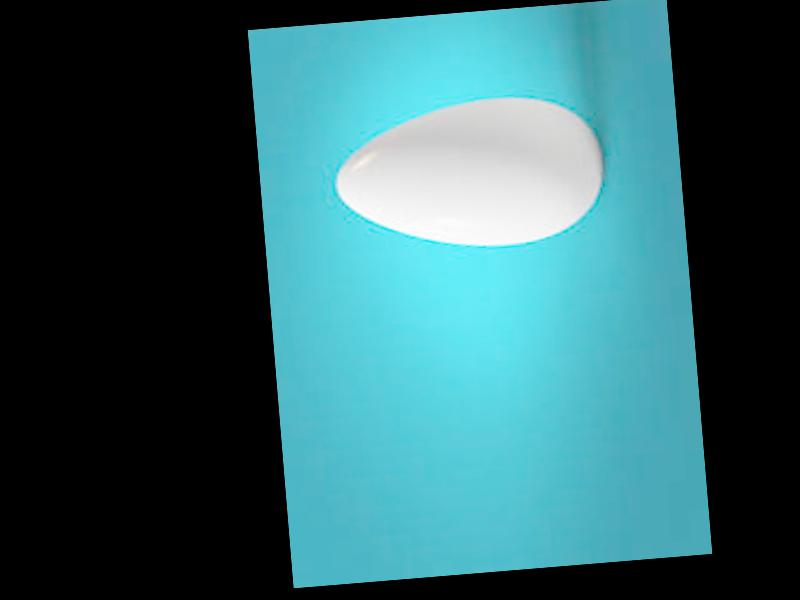Eggs: (332, 89, 608, 258)
